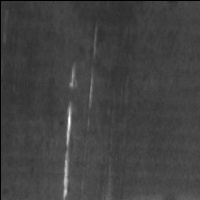scratches: (61, 66, 80, 200)
